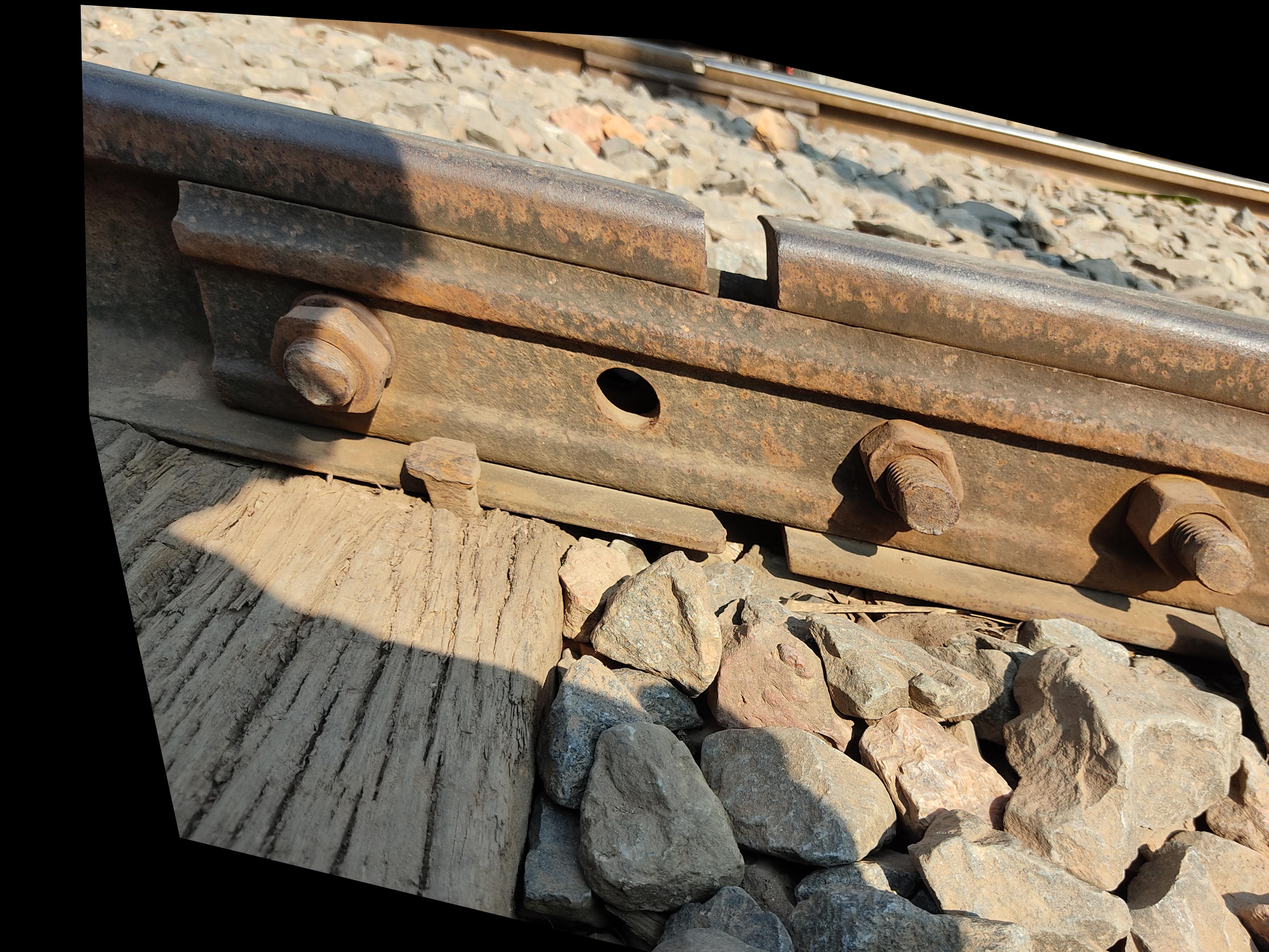person: (691, 50, 937, 246), (705, 335, 903, 508)
